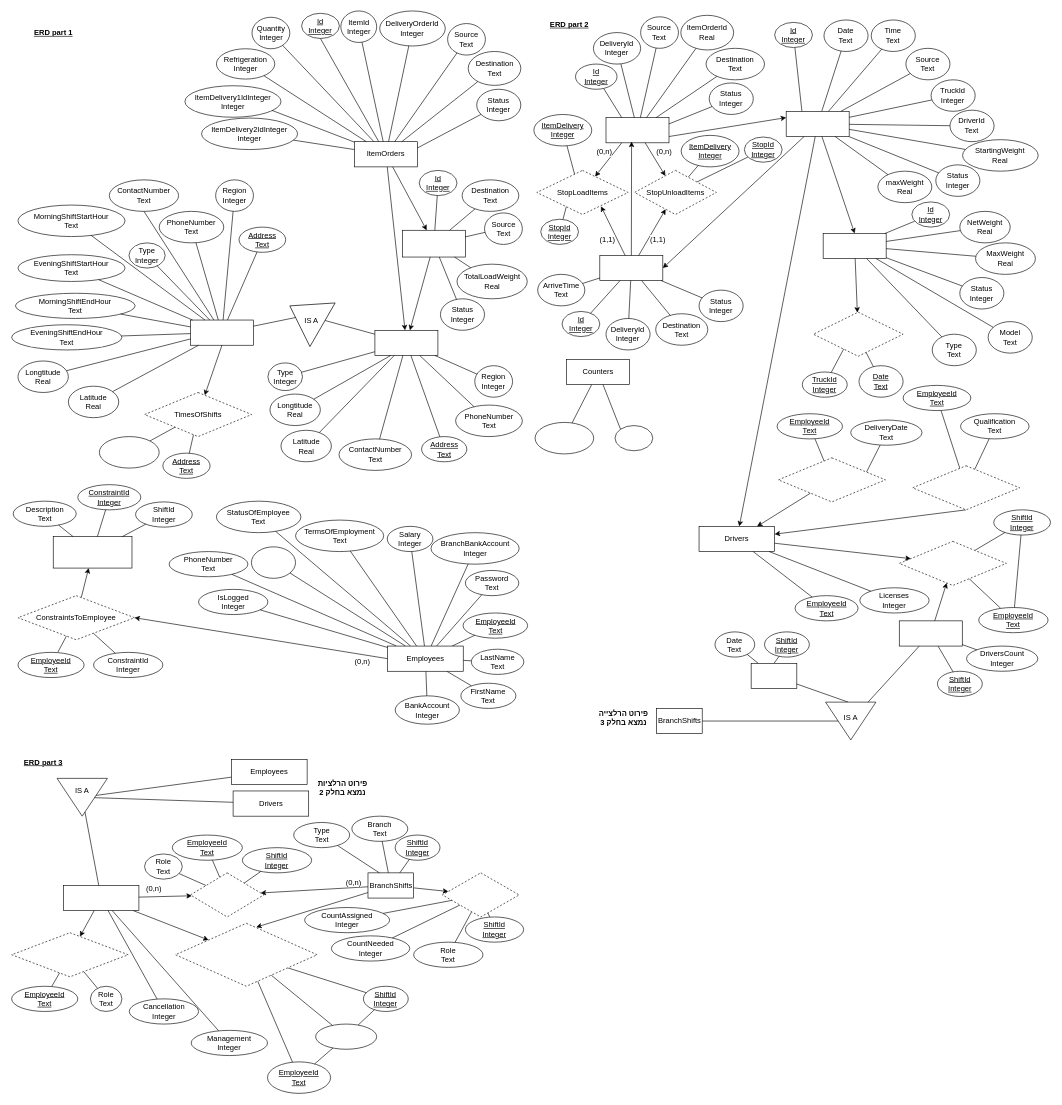
Some shapes in this 1062 by 1105 pixel diagram are drawn without their labels. Each missing label, with the centre of its shape:
"BranchEmployeeRoles" belongs at point (69, 954).
"BranchEmployees" belongs at point (101, 898).
"Branches" belongs at point (221, 332).
"CounterName Text" belongs at point (564, 438).
"Deliveries" belongs at point (817, 124).
"DeliveryOrders" belongs at point (433, 243).
"DriverDeliveryDates" belongs at point (831, 479).
"DriverQualifications" belongs at point (966, 487).
"DriverSchedules" belongs at point (952, 563).
"DriverShifts" belongs at point (930, 633).
"EmployeeConstraints" belongs at point (92, 552).
"HireDate Text" belongs at point (273, 562).
"ItemDeliveries" belongs at point (637, 130).
"NextId Integer" belongs at point (633, 438).
"ProductCancellationsToShift" belongs at point (246, 954).
"ProductId Text" belongs at point (346, 1036).
"RoleCounts" belongs at point (480, 894).
"Schedules" belongs at point (227, 894).
"Shifts" belongs at point (774, 676).
"Sites" belongs at point (406, 343).
"Stops" belongs at point (631, 268).
"TimeOfShift Text" belongs at point (129, 452).
"TruckDeliveryDates" belongs at point (858, 334).
"Trucks" belongs at point (854, 246).
